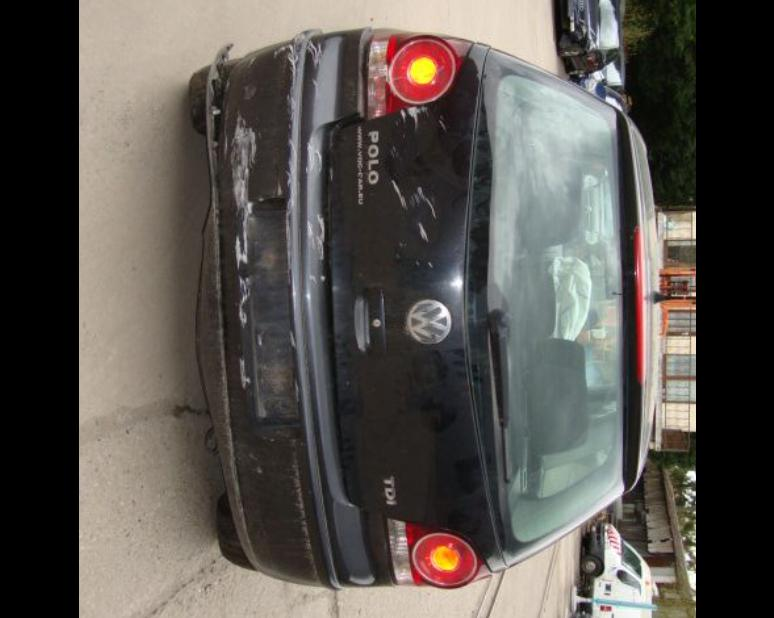Broken part: (203, 45, 257, 568)
Corrosion: (257, 355, 286, 396), (252, 244, 275, 275)
Flaking: (290, 442, 322, 588)
Scratch: (222, 109, 257, 271), (284, 137, 296, 287), (272, 43, 298, 92), (305, 212, 325, 261), (397, 105, 429, 132), (417, 185, 437, 220), (304, 37, 323, 68), (305, 140, 322, 174), (238, 275, 249, 327), (389, 177, 406, 209), (238, 358, 250, 388), (286, 92, 295, 129), (289, 32, 305, 52), (241, 83, 256, 100), (310, 77, 319, 104), (417, 221, 428, 243), (290, 377, 300, 401), (389, 142, 400, 158), (286, 328, 295, 347), (246, 55, 257, 69), (435, 118, 446, 130), (306, 272, 315, 284), (256, 332, 262, 347), (412, 192, 419, 204), (316, 270, 323, 282), (408, 195, 415, 205), (426, 260, 434, 268), (398, 240, 406, 247), (329, 167, 333, 181), (276, 185, 280, 196), (414, 259, 420, 266), (394, 253, 401, 259), (400, 131, 405, 139), (393, 118, 398, 125)
